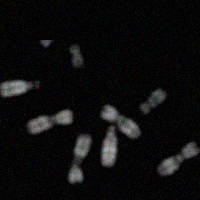chromosome: (154, 141, 199, 178), (100, 104, 141, 138), (68, 131, 91, 184), (26, 109, 73, 134), (100, 126, 119, 170), (0, 78, 42, 97), (136, 88, 167, 113), (69, 45, 84, 69)
